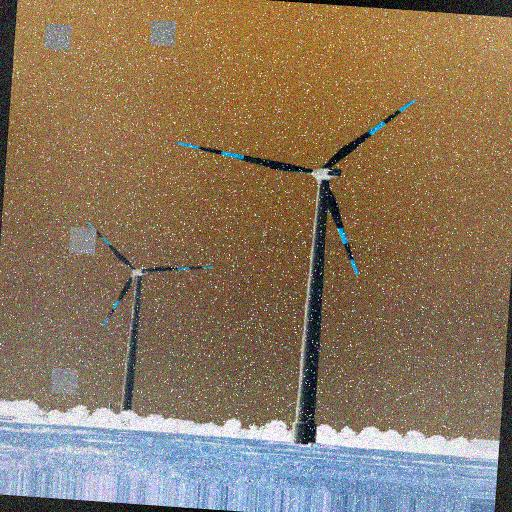wind turbine: (175, 99, 419, 439), (82, 221, 221, 414)
